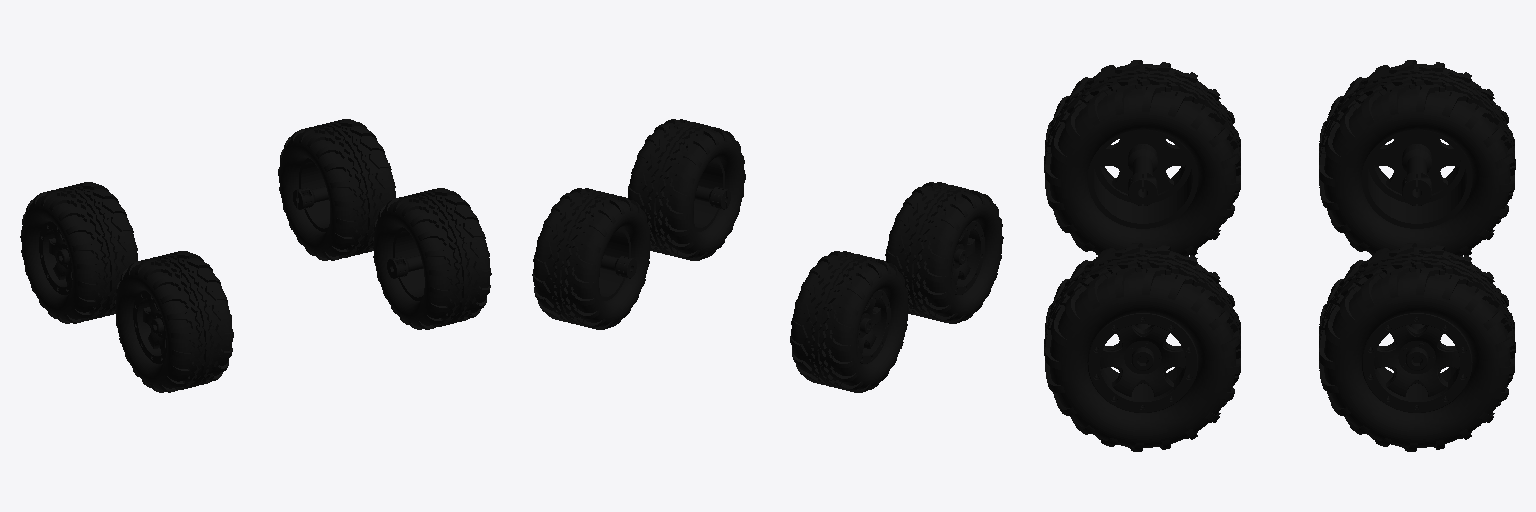
The robot description file, URDF, robot "Player":
?<?xml version="1.0" encoding="utf-8"?>
<robot name="Player">
  <material name="MetalBlack">
    <color rgba="0.2 0.2 0.2 1" />
  </material>
  <material name="Rubber">
    <color rgba="0.1 0.1 0.1 1" />
  </material>
  <link name="base_link">
    <inertial>
      <origin rpy="0 0 0" xyz="0 0 0" />
      <mass value="10" />
      <inertia ixx="1" ixy="0" ixz="0" iyy="1" iyz="0" izz="1" />
    </inertial>
    <visual>
      <origin rpy="-3.141593 0 0" />
      <geometry>
        <mesh filename="package://meshes/A4WD3-NWheeledMesh.stl" scale="1 1 1" />
      </geometry>
      <material name="MetalBlack" />
    </visual>
    <collision>
      <origin rpy="-3.141593 0 0" />
      <geometry>
        <mesh filename="package://meshes/A4WD3-NWheeledMesh.stl" scale="1 1 1" />
      </geometry>
    </collision>
  </link>
  <link name="FrontRight">
    <inertial>
      <origin rpy="0 0 0" xyz="0 0 0" />
      <mass value="0.5" />
      <inertia ixx="1" ixy="0" ixz="0" iyy="1" iyz="0" izz="1" />
    </inertial>
    <visual>
      <origin xyz="-0.1345 -0.11 0.035" />
      <geometry>
        <mesh filename="package://meshes/A4WD3-Wheel.stl" scale="1 1 1" />
      </geometry>
      <material name="Rubber" />
    </visual>
    <collision>
      <origin xyz="-0.1345 -0.11 0.035" />
      <geometry>
        <mesh filename="package://meshes/A4WD3-Wheel.stl" scale="1 1 1" />
      </geometry>
    </collision>
  </link>
  <link name="FrontLeft">
    <inertial>
      <origin rpy="0 0 0" xyz="0 0 0" />
      <mass value="0.5" />
      <inertia ixx="1" ixy="0" ixz="0" iyy="1" iyz="0" izz="1" />
    </inertial>
    <visual>
      <origin rpy="0 0 -3.141593" xyz="0.1345 -0.11 0.035" />
      <geometry>
        <mesh filename="package://meshes/A4WD3-Wheel.stl" scale="1 1 1" />
      </geometry>
      <material name="Rubber" />
    </visual>
    <collision>
      <origin rpy="0 0 -3.141593" xyz="0.1345 -0.11 0.035" />
      <geometry>
        <mesh filename="package://meshes/A4WD3-Wheel.stl" scale="1 1 1" />
      </geometry>
    </collision>
  </link>
  <link name="BackRight">
    <inertial>
      <origin rpy="0 0 0" xyz="0 0 0" />
      <mass value="0.5" />
      <inertia ixx="1" ixy="0" ixz="0" iyy="1" iyz="0" izz="1" />
    </inertial>
    <visual>
      <origin xyz="-0.1345 0.11 0.035" />
      <geometry>
        <mesh filename="package://meshes/A4WD3-Wheel.stl" scale="1 1 1" />
      </geometry>
      <material name="Rubber" />
    </visual>
    <collision>
      <origin xyz="-0.1345 0.11 0.035" />
      <geometry>
        <mesh filename="package://meshes/A4WD3-Wheel.stl" scale="1 1 1" />
      </geometry>
    </collision>
  </link>
  <link name="BackLeft">
    <inertial>
      <origin rpy="0 0 0" xyz="0 0 0" />
      <mass value="0.5" />
      <inertia ixx="1" ixy="0" ixz="0" iyy="1" iyz="0" izz="1" />
    </inertial>
    <visual>
      <origin rpy="0 0 -3.141593" xyz="0.1345 0.11 0.035" />
      <geometry>
        <mesh filename="package://meshes/A4WD3-Wheel.stl" scale="1 1 1" />
      </geometry>
      <material name="Rubber" />
    </visual>
    <collision>
      <origin rpy="0 0 -3.141593" xyz="0.1345 0.11 0.035" />
      <geometry>
        <mesh filename="package://meshes/A4WD3-Wheel.stl" scale="1 1 1" />
      </geometry>
    </collision>
  </link>
  <joint name="base_link_FrontRight_joint" type="continuous">
    <parent link="base_link" />
    <child link="FrontRight" />
    <axis xyz="1 0 0" />
  </joint>
  <joint name="base_link_FrontLeft_joint" type="continuous">
    <parent link="base_link" />
    <child link="FrontLeft" />
    <axis xyz="1 0 0" />
  </joint>
  <joint name="base_link_BackRight_joint" type="continuous">
    <parent link="base_link" />
    <child link="BackRight" />
    <axis xyz="1 0 0" />
  </joint>
  <joint name="base_link_BackLeft_joint" type="continuous">
    <parent link="base_link" />
    <child link="BackLeft" />
    <axis xyz="1 0 0" />
  </joint>
</robot>

--- Facts derived from the render (not from the file) ---
The picture shows the robot from 3 angles, left to right: view 1: azimuth 30°, elevation 25°; view 2: azimuth 150°, elevation 25°; view 3: azimuth 270°, elevation 25°; orthographic projection.
Model Player with 5 links and 4 joints (4 continuous), rooted at base_link, posed all joints at 0.
Visible links, largest first — view 1: FrontRight, FrontLeft, BackLeft, BackRight; view 2: BackRight, BackLeft, FrontLeft, FrontRight; view 3: FrontLeft, BackLeft, FrontRight, BackRight.
Link boxes in pixels (bbox=[...]): FrontRight: bbox=[115, 251, 233, 392]; FrontLeft: bbox=[373, 188, 491, 329]; BackLeft: bbox=[278, 119, 395, 260]; BackRight: bbox=[20, 182, 137, 323]; BackRight: bbox=[790, 251, 908, 392]; BackLeft: bbox=[532, 188, 650, 329]; FrontLeft: bbox=[628, 119, 745, 260]; FrontRight: bbox=[885, 182, 1003, 323]; FrontLeft: bbox=[1044, 243, 1240, 451]; BackLeft: bbox=[1319, 243, 1515, 451]; FrontRight: bbox=[1044, 60, 1240, 255]; BackRight: bbox=[1319, 60, 1515, 255].
Bounding box of the posed robot: 0.4314 × 0.378 × 0.158 m (x, y, z).
4 mesh visuals loaded from 2 distinct referenced files (1 binary STL); not drawn: 1 (reference not matched to a file when rendering).